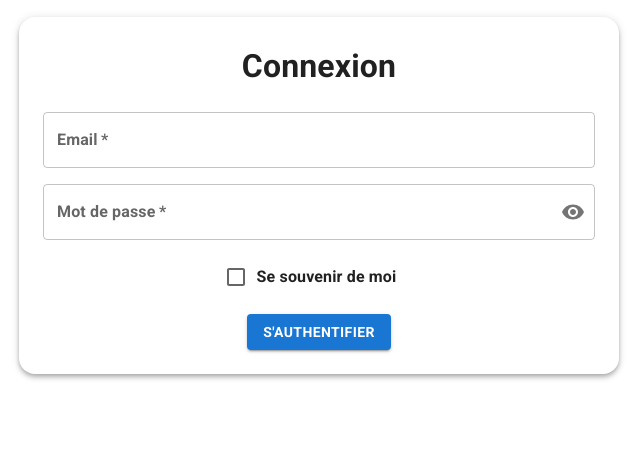
LoginPage › shows generic error message when loginUser throws a non-403 error
The width and height of the screenshot is (639, 461).
Type "test@user.com" into the field labelled "Email *" at (319, 140), box [43, 112, 595, 168]
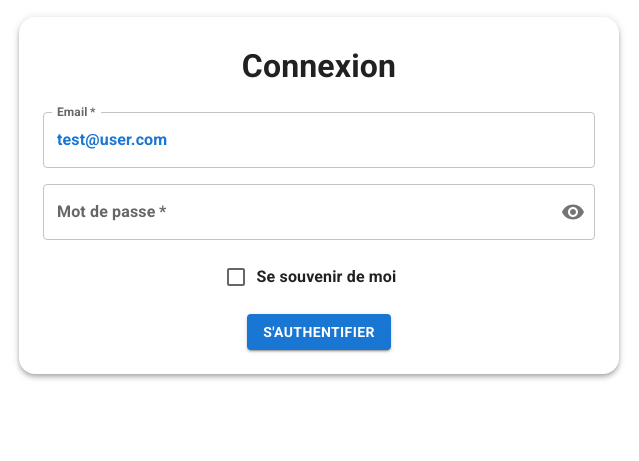
Type "password" into the password field labelled "Mot de passe *" at (294, 212), box [43, 184, 545, 240]
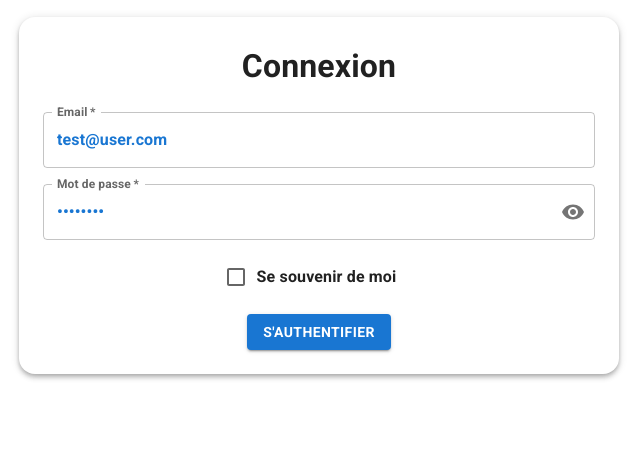
Click the button "S'authentifier" at (319, 332), box [247, 314, 391, 350]
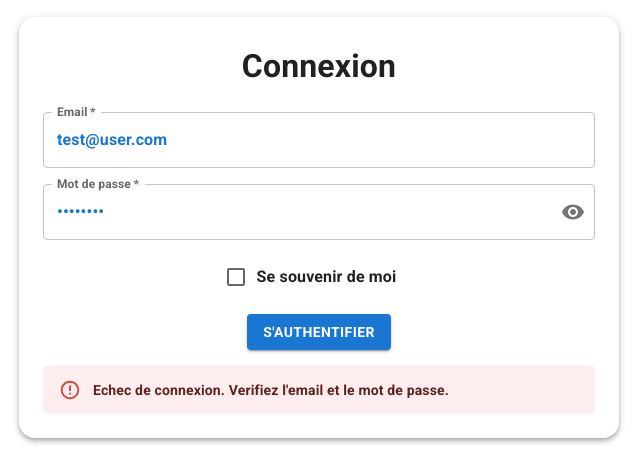
Now the text "Echec de connexion. Verifiez l'email et le mot de passe." is shown, box [93, 382, 449, 398]
